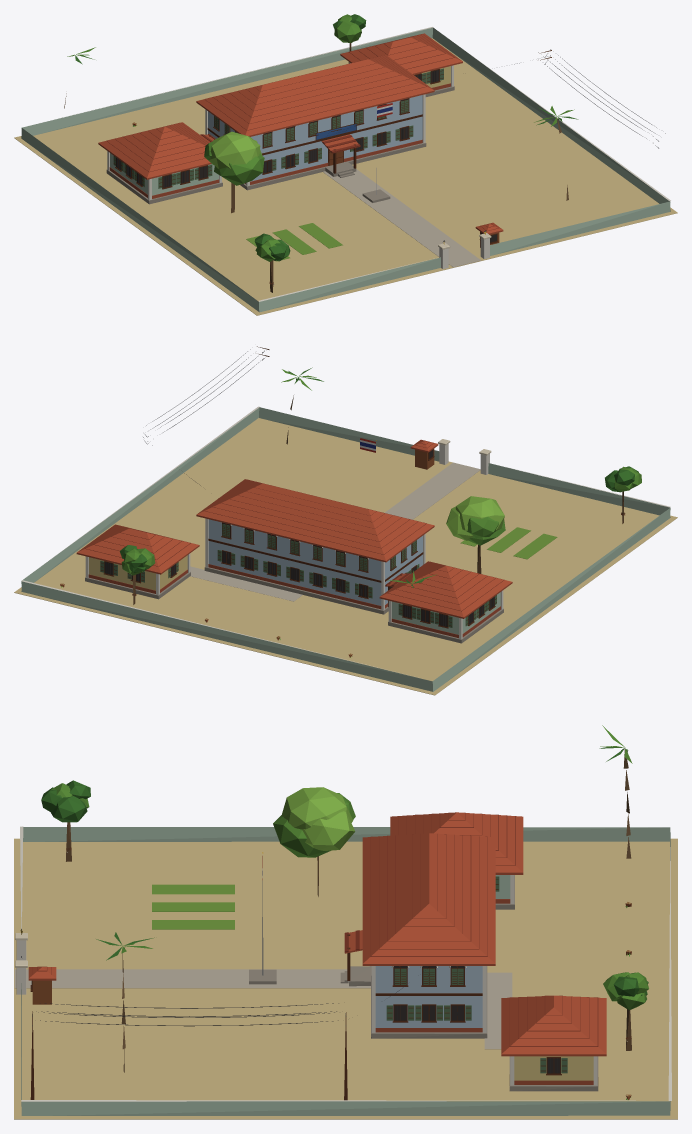
Rendered from police.glb.
3 renders of one model, top to bottom at view 1: azimuth 30°, elevation 25°; view 2: azimuth 150°, elevation 25°; view 3: azimuth 270°, elevation 25°, orthographic. The views are drawn at different scales.
Parts seen in each view (by area): view 1: body, windows; view 2: body, windows; view 3: body, windows.
Boxes of the visible parts, <box> form: body: <box>14,14,677,315</box>; windows: <box>116,70,496,244</box>; body: <box>14,346,677,695</box>; windows: <box>105,450,494,626</box>; body: <box>14,725,677,1119</box>; windows: <box>20,930,560,1073</box>.
Bounding box in the file's own units: 47.9 × 10.59 × 47.9.
